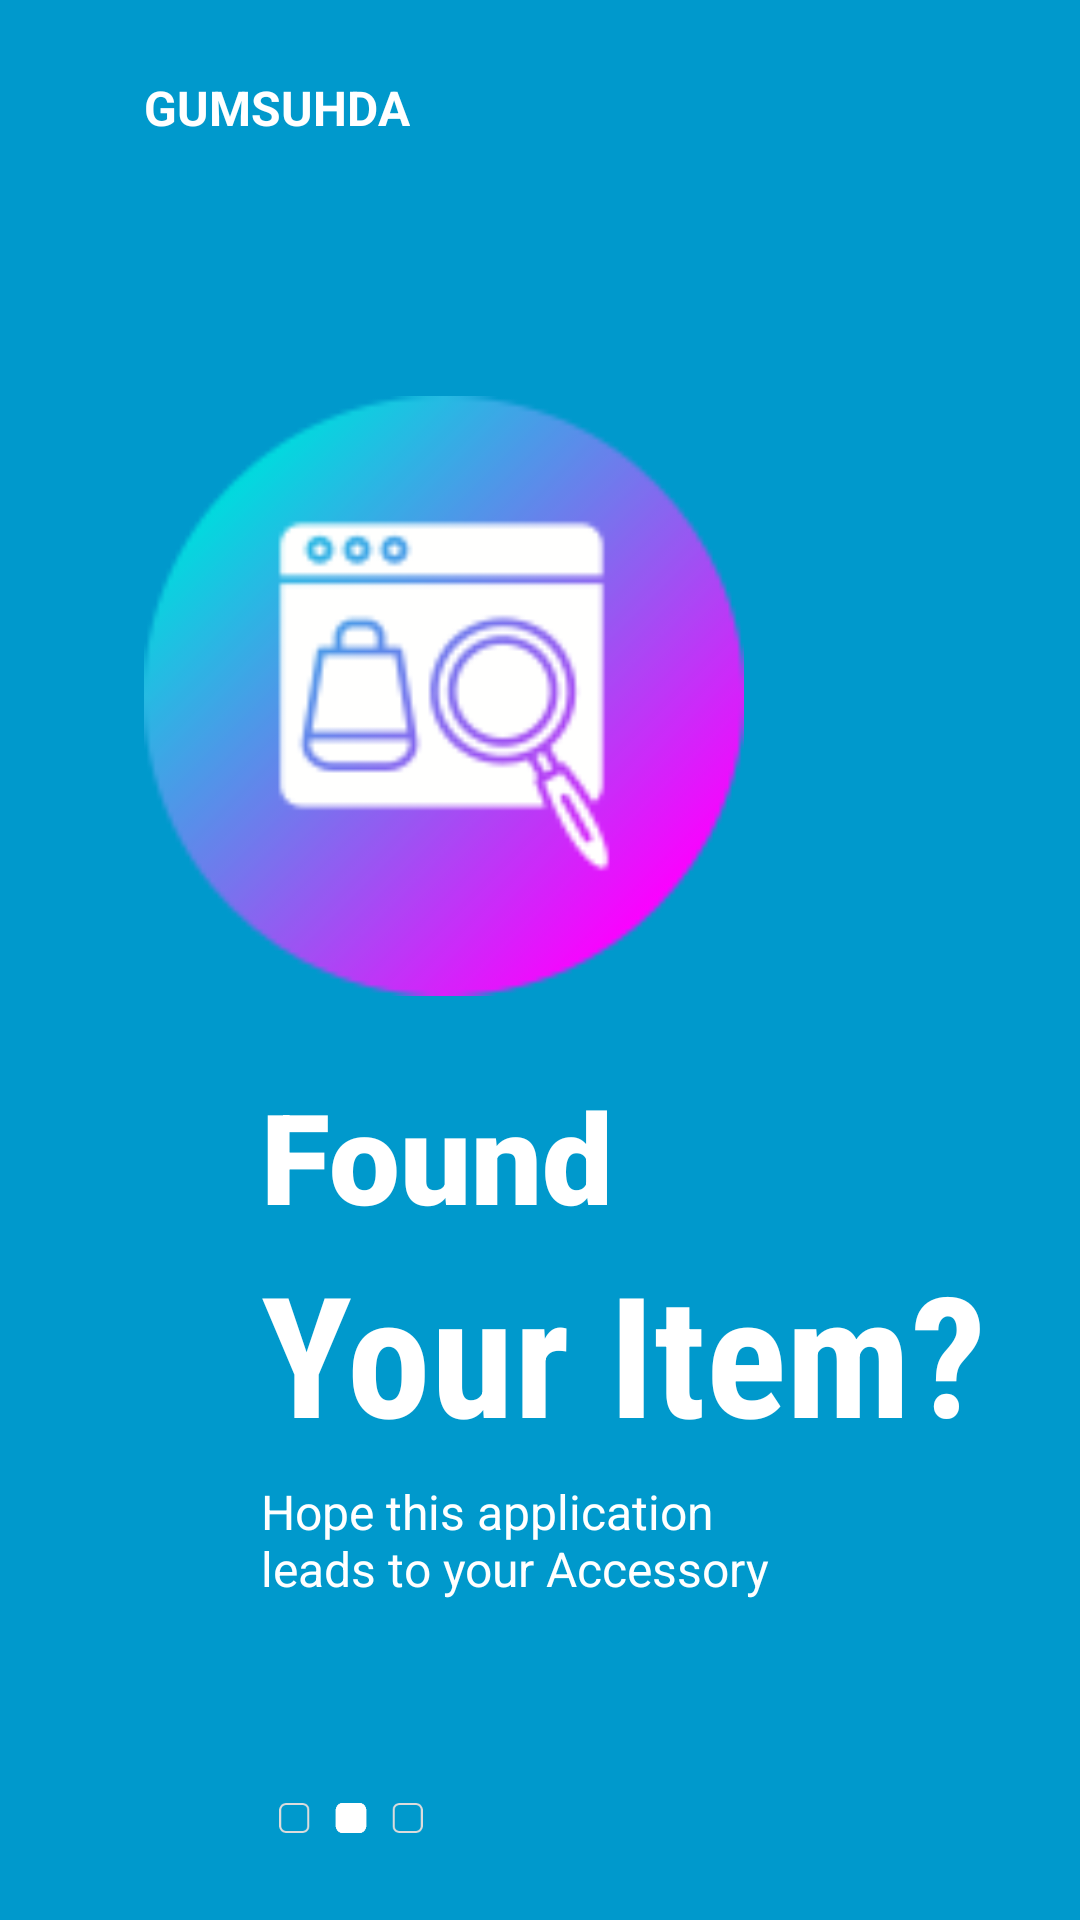

Icons on this 1080px×1920px Android screen, each with its box as (x1, y1, x2, y2):
tab: (279, 1803, 423, 1833)
